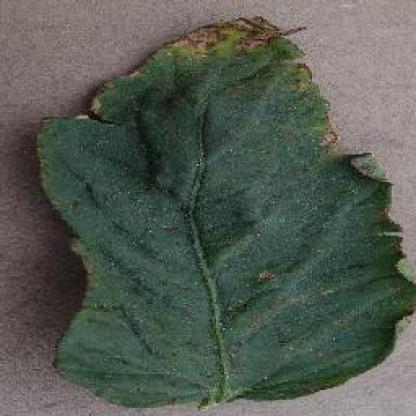bad leaf: (24, 9, 414, 396)
